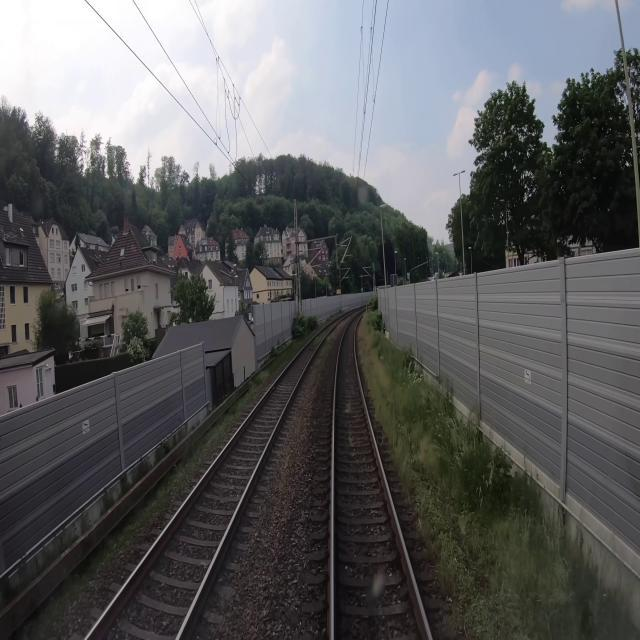Plant: (357, 337, 496, 639), (310, 332, 334, 387), (314, 335, 321, 348)
